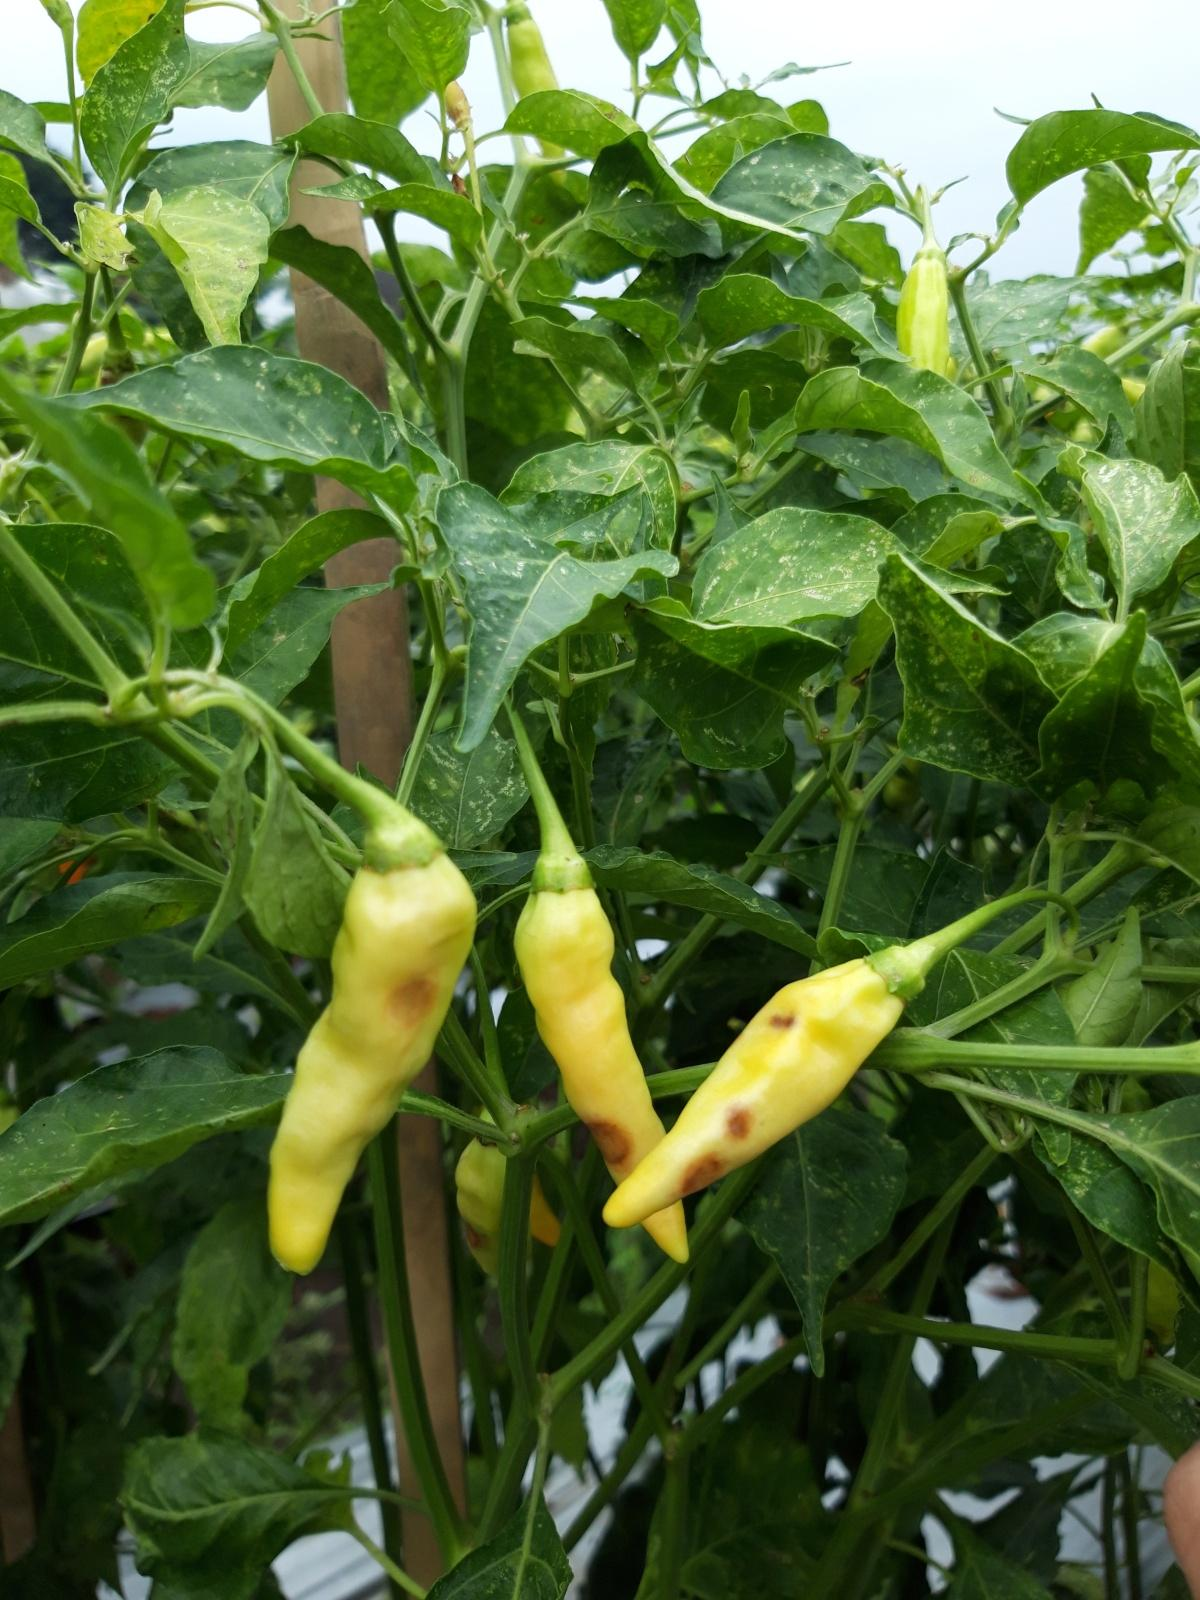lalat_buah: (266, 818, 478, 1276), (601, 945, 924, 1232), (513, 857, 692, 1262)
